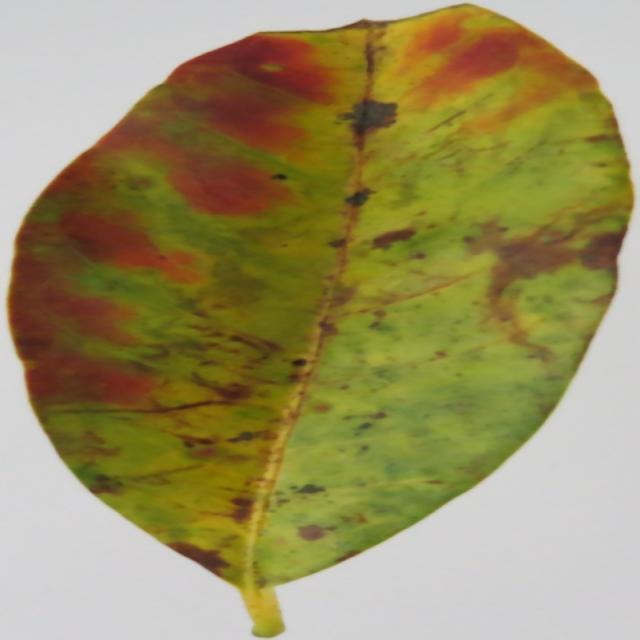DeficienciaNutricional-Fosforo: (11, 5, 632, 586)
